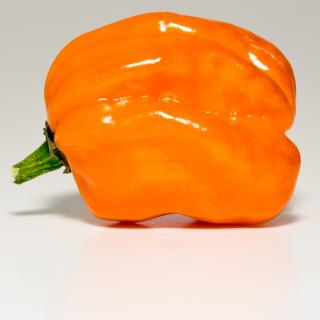Bell pepper: (10, 10, 301, 225)
